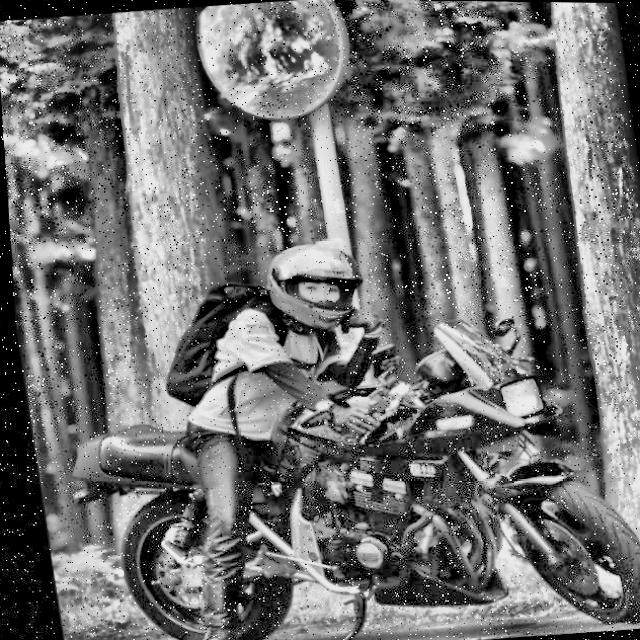Helmet: (253, 235, 369, 338)
